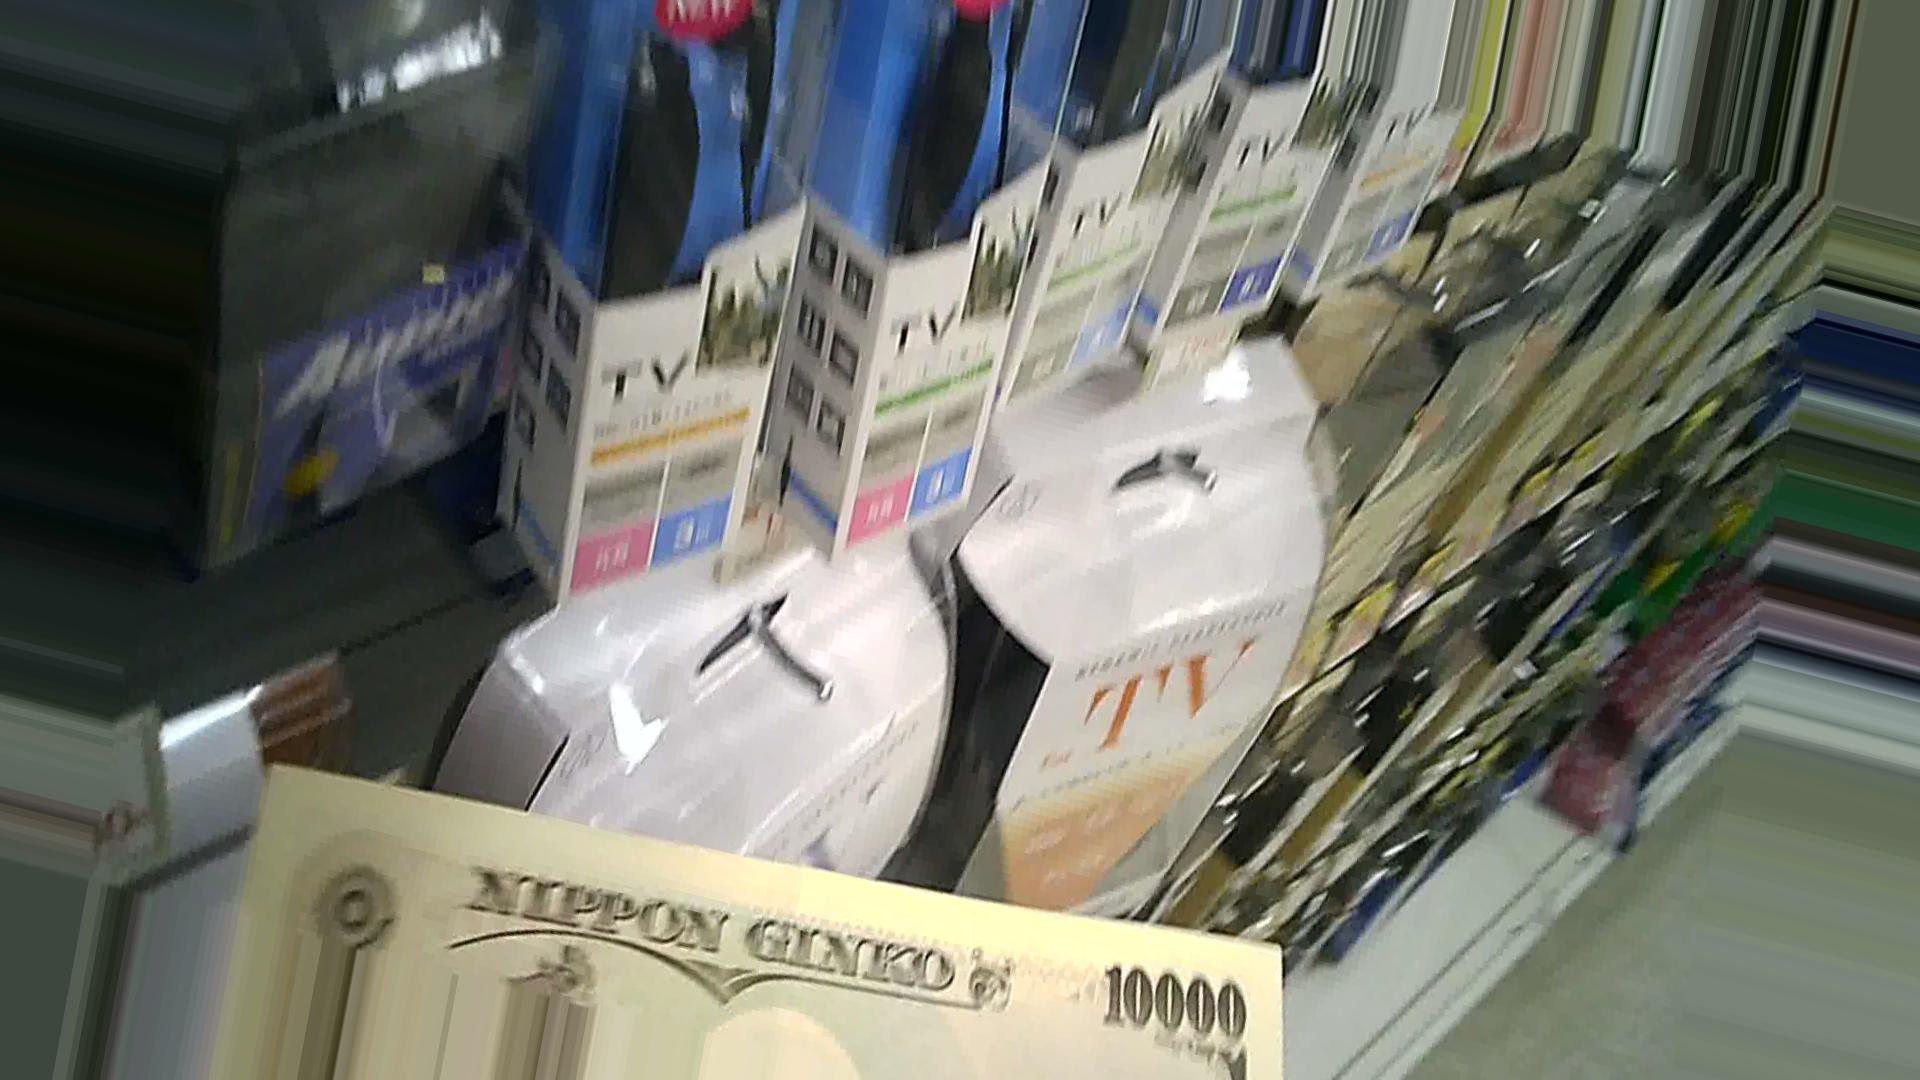10,000 Yen: (229, 725, 1291, 1079)
